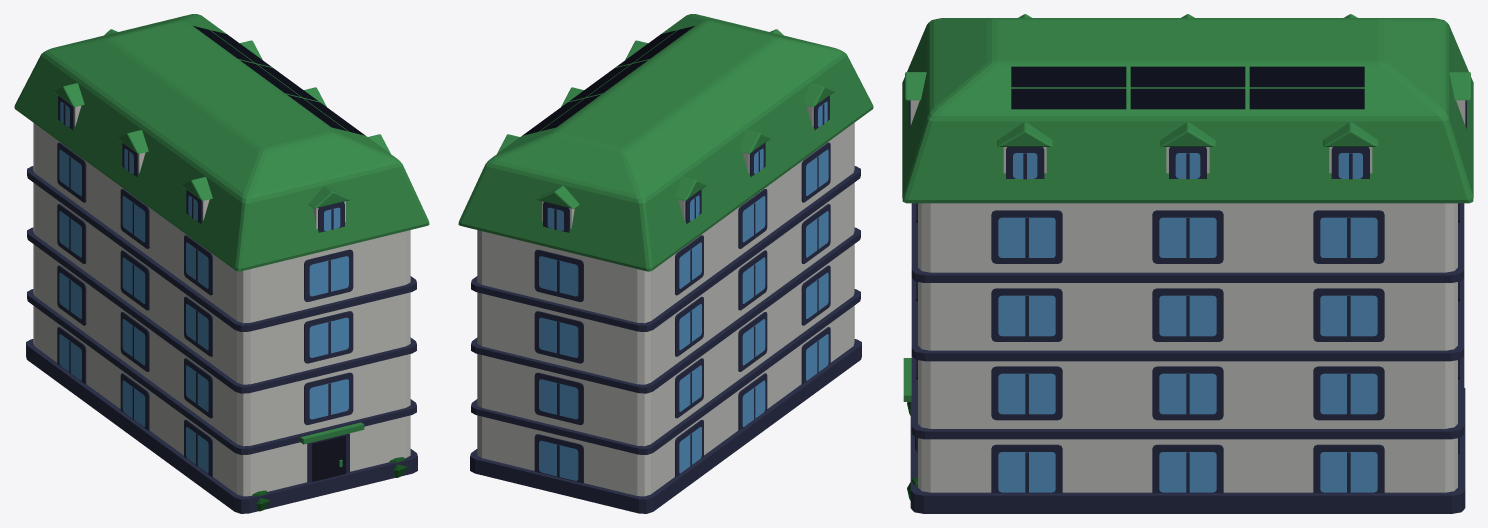
File: house-1x2-4f-mansard-a-solar.glb
3 renders of one model, left to right at view 1: azimuth 30°, elevation 25°; view 2: azimuth 150°, elevation 25°; view 3: azimuth 270°, elevation 25°, orthographic. The views are drawn at different scales.
Visible parts, largest first — view 1: house-1x2-4f-mansard-a-solar; view 2: house-1x2-4f-mansard-a-solar; view 3: house-1x2-4f-mansard-a-solar.
Boxes of the visible parts, x1,y1,x2,y2 form: house-1x2-4f-mansard-a-solar: (14, 14, 429, 513); house-1x2-4f-mansard-a-solar: (458, 14, 873, 513); house-1x2-4f-mansard-a-solar: (902, 14, 1473, 513).
Size of the model in its own units: 0.9876 by 1.6 by 1.99.
Materials: 1 (1 with a texture image).
